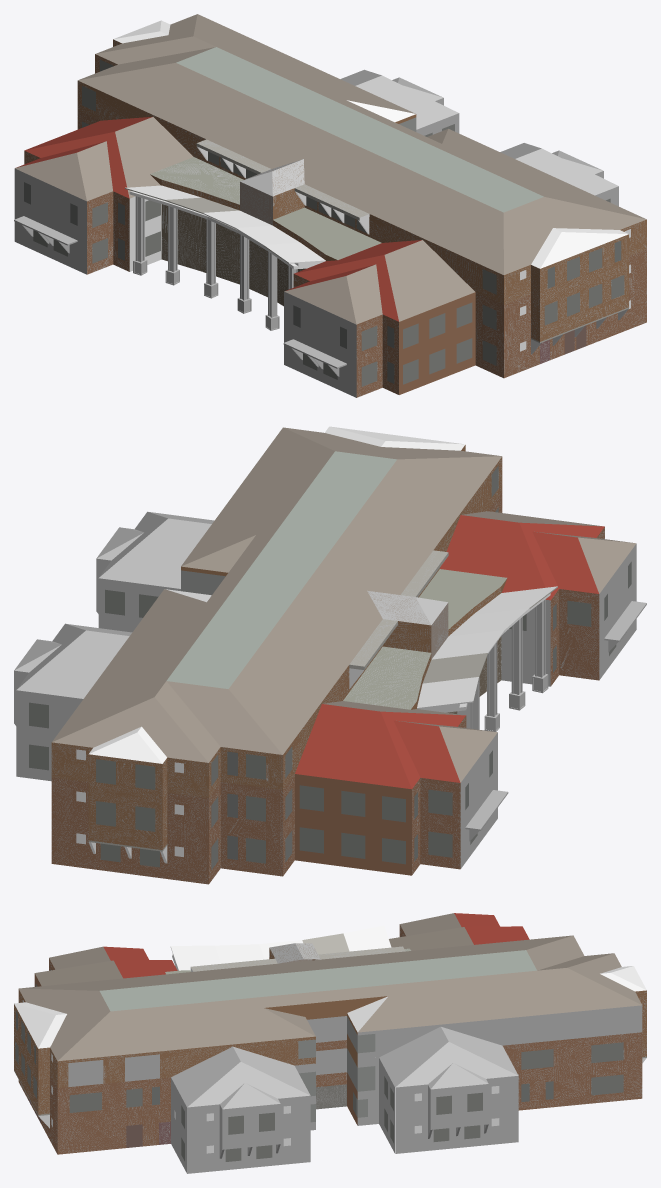
3 renders of one model, top to bottom at view 1: azimuth 30°, elevation 25°; view 2: azimuth 150°, elevation 25°; view 3: azimuth 270°, elevation 25°, orthographic. The views are drawn at different scales.
Visible parts, largest first — view 1: group_6 (×7), Roof (×2), Front_Panel_1 (×4), group_4 (×6), group_5 (×2), group_3, Side_Panel_2 (×3), Side_Panel_4, Window-Front (×2), Column (×5), Side_Panel_1 (×2), Window-Cover (×2) (+1 smaller); view 2: group_6 (×8), Roof (×2), group_5 (×2), group_4 (×4), Side_Panel_4, group_3, Front_Panel_1 (×4), Side_Panel_2 (×3), Side_Panel_3, Side_Panel_5, Column (×3), Side_Panel_6 (+5 smaller); view 3: group_6 (×12), Back_Face (×6), group_5 (×2), Roof (×2), group_3, Window-XL (×4), Back_Window (×2), Window-Cover (×2), Side_Panel_5, Side_Panel_6, group_4, Corner_Windows.
Boxes of the visible parts, x1,y1,x2,y2 form: group_6 (×7): (77,14,646,378); Roof (×2): (15,116,474,324); Front_Panel_1 (×4): (14,168,356,397); group_4 (×6): (150,157,381,297); group_5 (×2): (340,69,618,195); group_3: (125,185,325,269); Side_Panel_2 (×3): (87,191,501,397); Side_Panel_4: (399,292,475,394); Window-Front (×2): (161,204,239,284); Column (×5): (135,196,277,317); Side_Panel_1 (×2): (113,191,398,394); Window-Cover (×2): (196,139,368,220); group_6 (×8): (51,426,502,884); Roof (×2): (295,511,636,789); group_5 (×2): (16,511,214,698); group_4 (×4): (343,569,506,709); Side_Panel_4: (295,774,411,875); group_3: (417,586,557,712); Front_Panel_1 (×4): (460,544,646,868); Side_Panel_2 (×3): (209,774,460,883); Side_Panel_3: (559,589,599,680); Side_Panel_5: (16,690,83,781); Column (×3): (487,599,545,716); Side_Panel_6: (98,578,180,632); group_6 (×12): (14,935,646,1154); Back_Face (×6): (187,1063,518,1173); group_5 (×2): (171,1026,518,1107); Roof (×2): (35,913,529,986); group_3: (170,925,391,970); Window-XL (×4): (68,1010,624,1087); Back_Window (×2): (307,1016,346,1075); Window-Cover (×2): (191,946,405,971); Side_Panel_5: (171,1078,186,1172); Side_Panel_6: (379,1058,394,1152); group_4: (269,943,320,963); Corner_Windows: (357,1066,375,1091).
Bounding box in the file's own units: 1842 × 2487 × 480.
